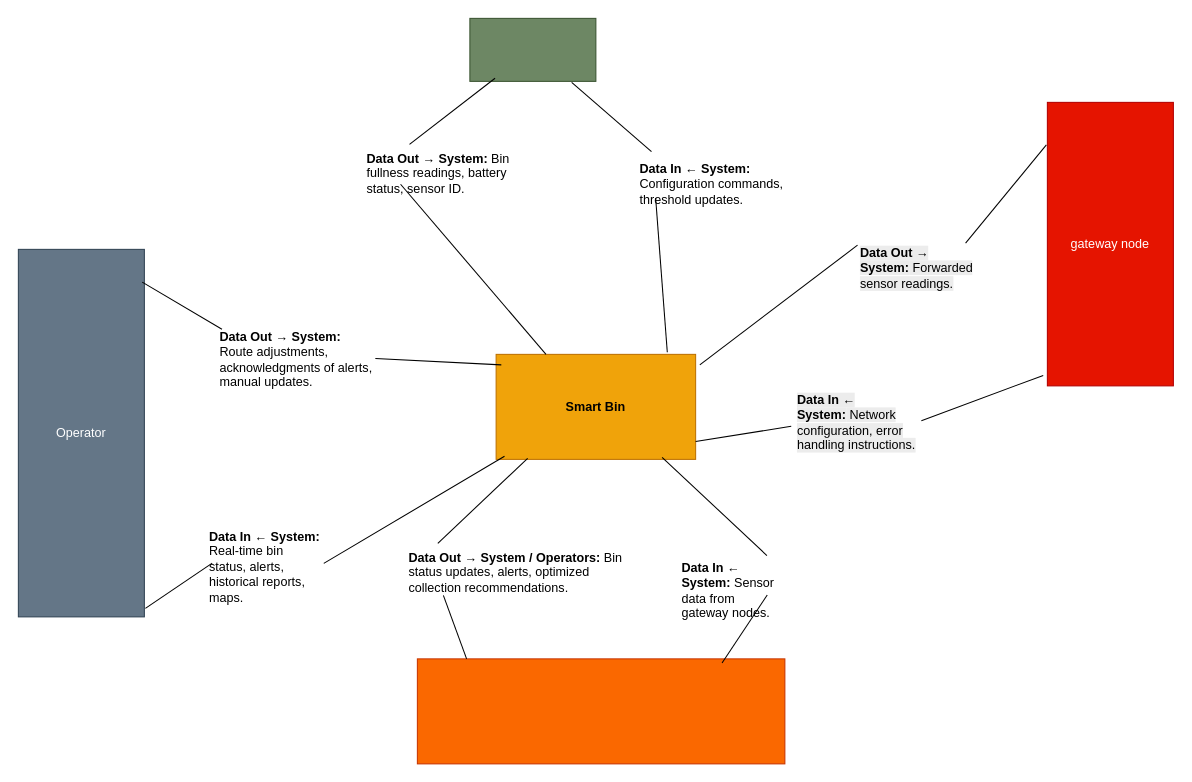
Image size: 1192x782. Some labels were removed from this diagram. The centre of each missing label's shape, as x and y in pixels:
"backend analytics" belongs at (600,711).
"sensor nodes" belongs at (532,49).
